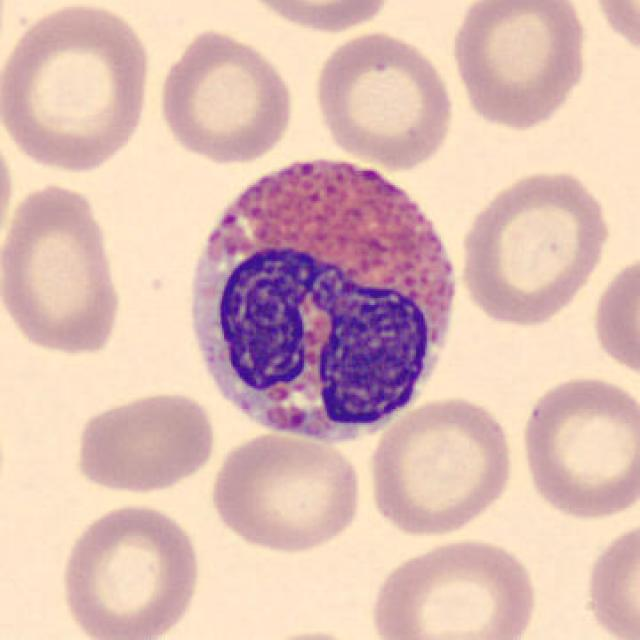Eosinophil: (169, 130, 475, 458)
RBC: (0, 0, 156, 176), (455, 166, 613, 330), (0, 178, 126, 360), (364, 393, 518, 540), (309, 28, 457, 171), (55, 499, 205, 640), (206, 428, 366, 556), (153, 24, 297, 166), (446, 0, 592, 132), (364, 534, 542, 640), (516, 370, 638, 524), (71, 388, 219, 497), (581, 516, 638, 640), (590, 245, 638, 384), (234, 0, 398, 35), (585, 0, 640, 63), (0, 120, 18, 268), (244, 626, 378, 640)
